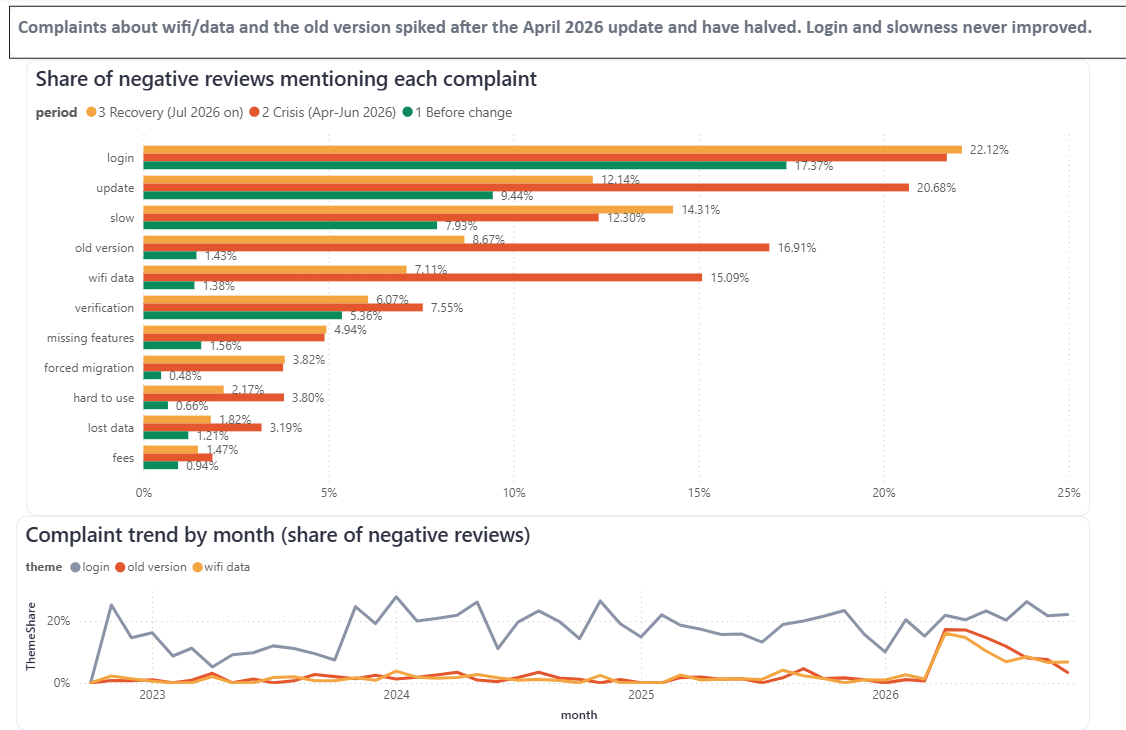

This screenshot's page, from the dashboard's own definition file:
{"tool":"powerbi","page":{"name":"Page 2","canvas":[1280,720],"ordinal":1},"visuals":[{"type":"clusteredBarChart","title":"Share of negative reviews mentioning each complaint","fields":{"Category":["theme_long.theme"],"Y":["theme_long.ThemeShare"],"Series":["theme_long.period"]},"box":[27,61.4,1044.2,447.9],"z":0},{"type":"lineChart","title":"Complaint trend by month (share of negative reviews)","fields":{"Category":["theme_long.month"],"Y":["theme_long.ThemeShare"],"Series":["theme_long.theme"]},"box":[17.2,509.2,1054,211],"z":1000},{"type":"textbox","box":[9.8,8.6,1269.9,52.8],"z":2000}]}

Visuals, with their boxes on the page's 1280x720 design canvas (x1, y1, x2, y2). These are canvas units, not pixel positions in the 1126x730 screenshot, which may show the page scaled, cropped or inside an application window:
"Share of negative reviews mentioning each complaint" clusteredBarChart: [27, 61, 1071, 509]
"Complaint trend by month (share of negative reviews)" lineChart: [17, 509, 1071, 720]
textbox: [10, 9, 1280, 61]
